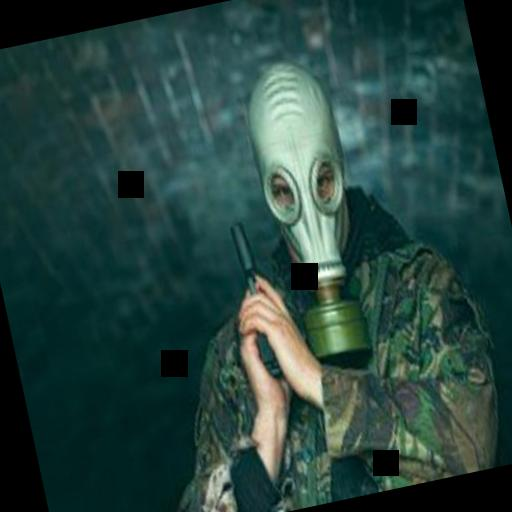Handgun: (212, 206, 303, 394)
